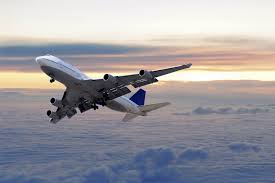plane: (33, 53, 192, 124)
